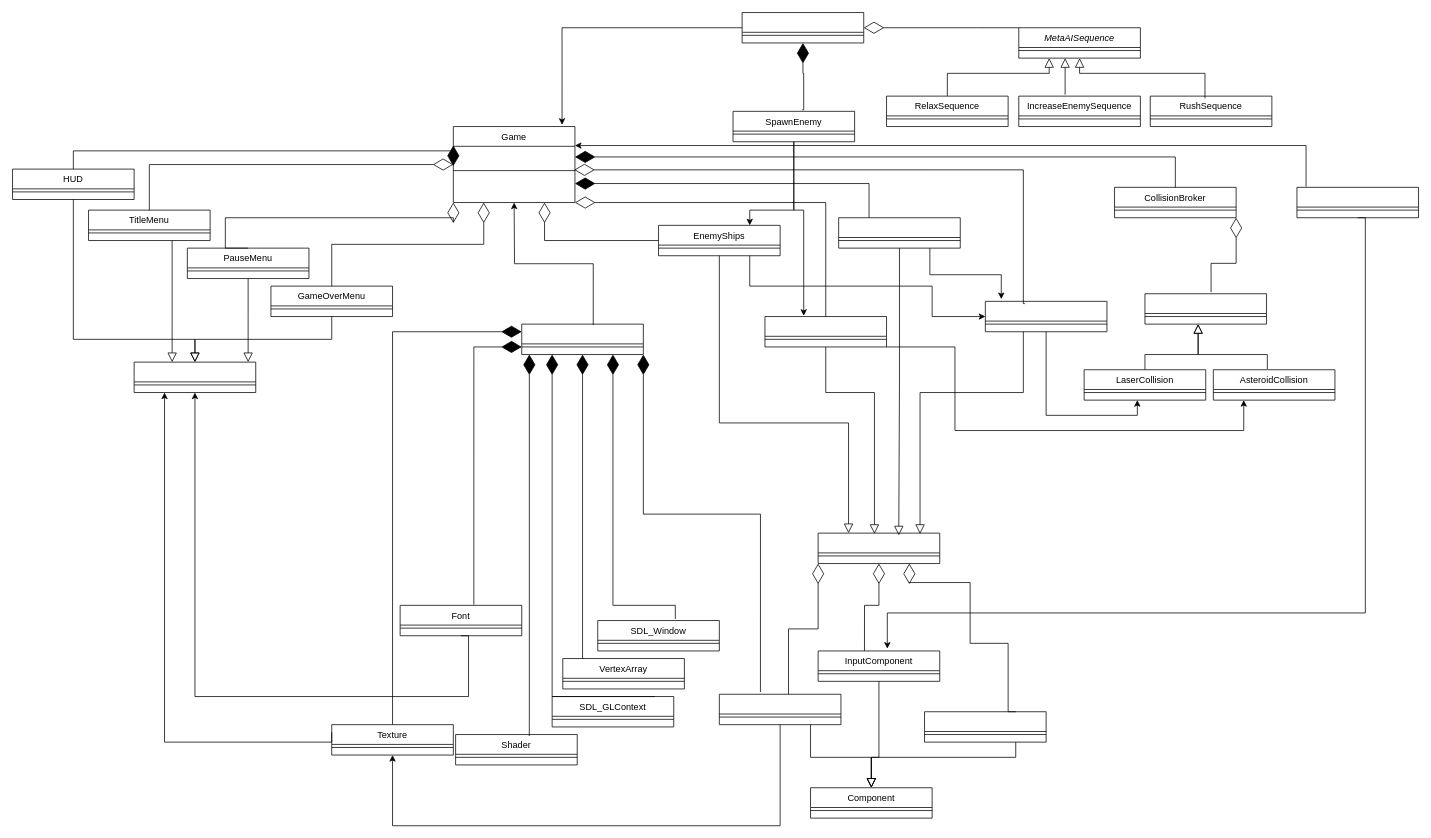
Some shapes in this 1431 by 838 pixel diagram are drawn without their labels. The centre of each missing label's shape, as x and y in pixels:
Actor: pixel 878 548
Asteroids: pixel 825 331
CircleComponent: pixel 985 726
Collision: pixel 1205 308
InputSystem: pixel 1357 202
Laser: pixel 1046 316
MetaAI: pixel 802 27
PlayerShip: pixel 899 232
Renderer: pixel 582 339
SpriteComponent: pixel 780 709
UIScreen: pixel 194 377
